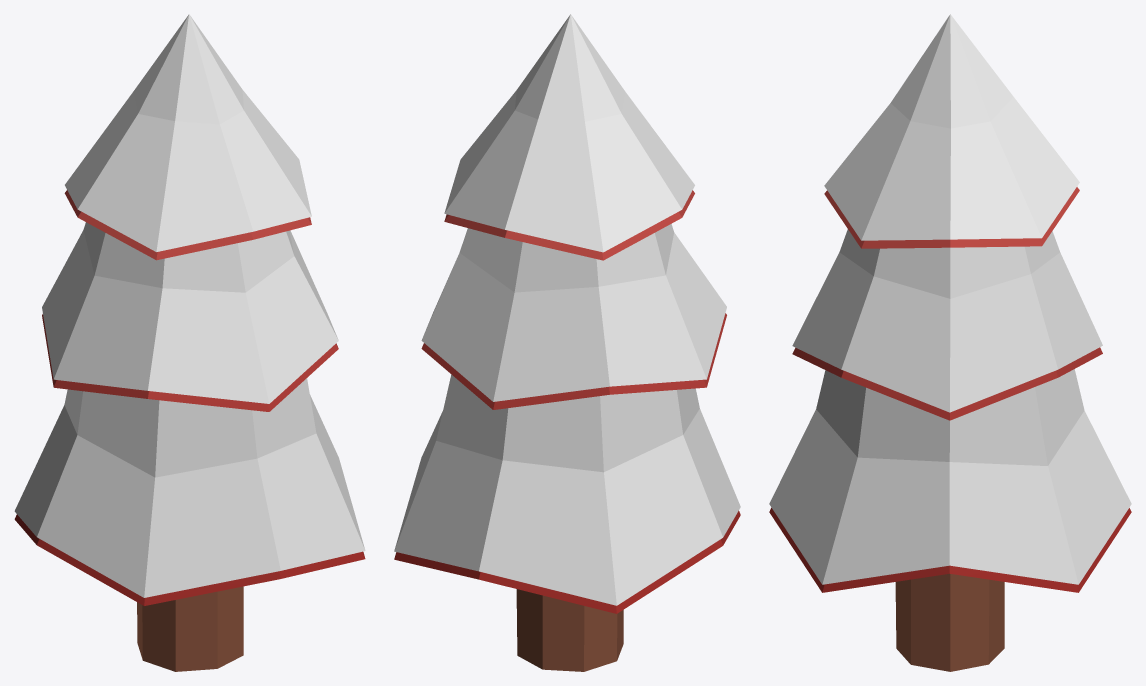
Rendered from Tree_01_winter_gradient_red_pal.fbx.
3 renders of one model, left to right at view 1: azimuth 30°, elevation 25°; view 2: azimuth 150°, elevation 25°; view 3: azimuth 270°, elevation 25°, orthographic.
Parts seen in each view (by area): view 1: Tree_01_winter_gradient_red_pal; view 2: Tree_01_winter_gradient_red_pal; view 3: Tree_01_winter_gradient_red_pal.
Part boxes in pixels (bbox=[...]): Tree_01_winter_gradient_red_pal: bbox=[14, 14, 365, 671]; Tree_01_winter_gradient_red_pal: bbox=[394, 14, 740, 671]; Tree_01_winter_gradient_red_pal: bbox=[769, 14, 1131, 671].
Bounding box in the file's own units: 83.22 × 167 × 86.78.
